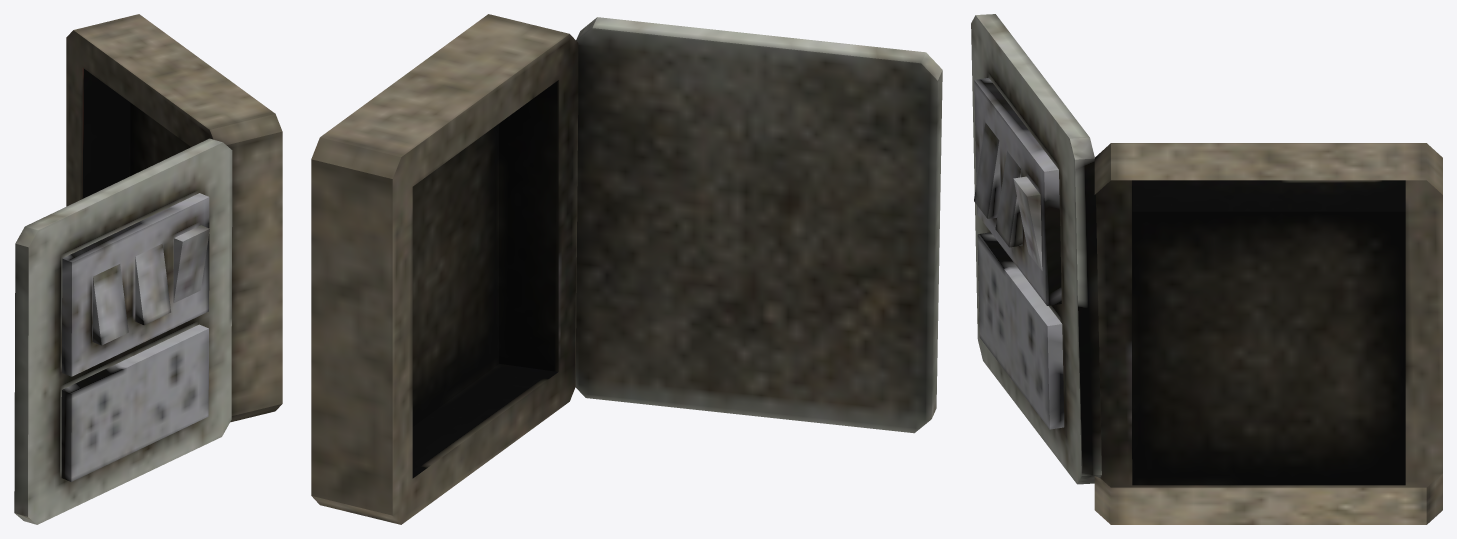
The model's file is Switchboard_04.FBX.
3 views of the same model, side by side, from view 1: azimuth 30°, elevation 25°; view 2: azimuth 150°, elevation 25°; view 3: azimuth 270°, elevation 25° (orthographic). The views are drawn at different scales.
Parts seen in each view (by area): view 1: Switchboard_04; view 2: Switchboard_04; view 3: Switchboard_04.
Part boxes in pixels (box(x1,y1,x2,y2)): Switchboard_04: box(14, 14, 282, 524); Switchboard_04: box(311, 14, 942, 524); Switchboard_04: box(971, 14, 1442, 524).
Size of the model in its own units: 19.99 by 18.5 by 22.61.
